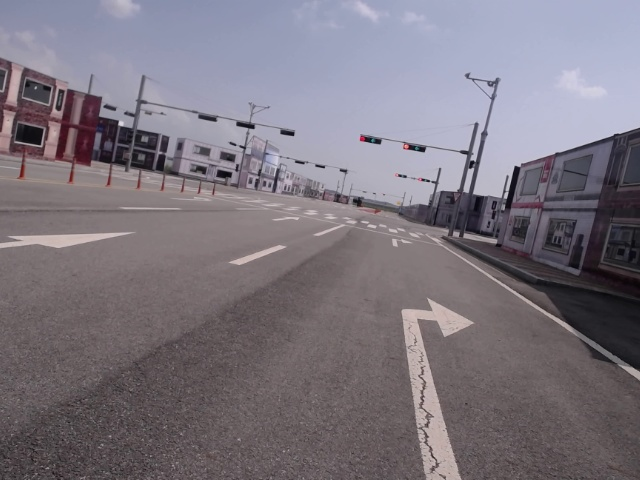left_green_4: (405, 143, 425, 152), (360, 135, 380, 143)
